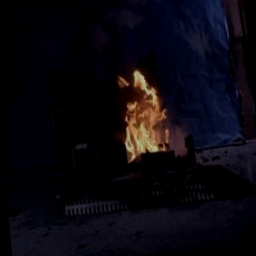fire: (106, 53, 178, 168)
